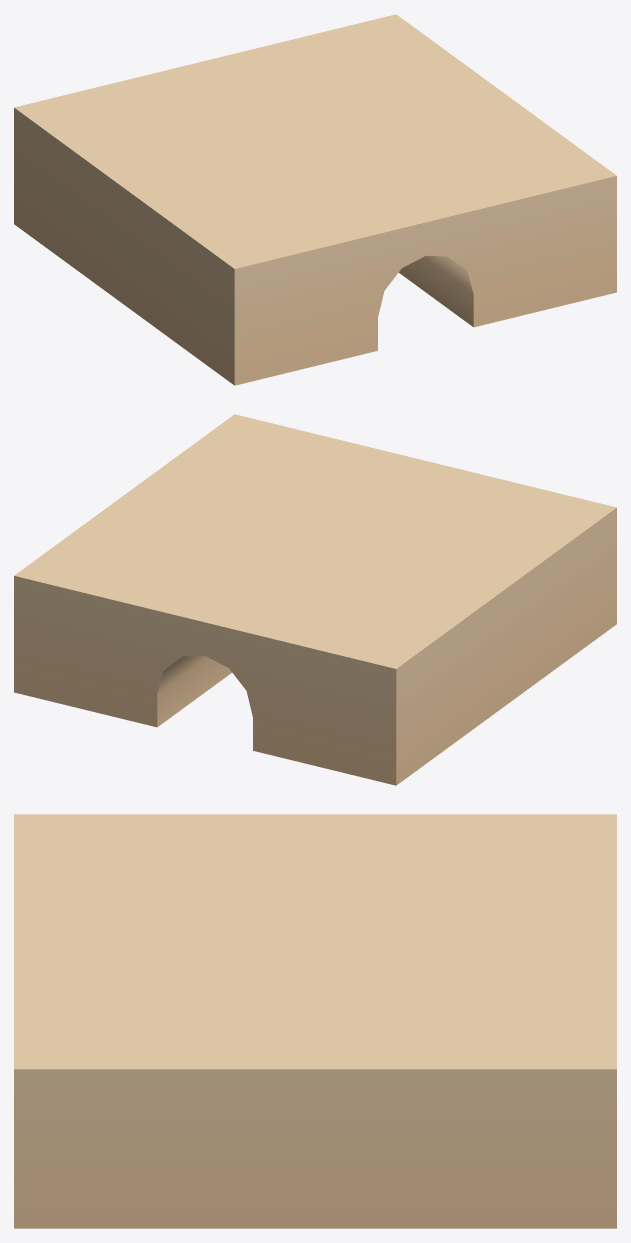
The model's file is structure-gate.glb.
3 views of the same model, one above another, from view 1: azimuth 30°, elevation 25°; view 2: azimuth 150°, elevation 25°; view 3: azimuth 270°, elevation 25° (orthographic). The views are drawn at different scales.
Visible parts, largest first — view 1: structure-gate; view 2: structure-gate; view 3: structure-gate.
Boxes of the visible parts, left/top/right/bottom form: structure-gate: left=14, top=14, right=616, bottom=385; structure-gate: left=14, top=414, right=616, bottom=785; structure-gate: left=14, top=814, right=616, bottom=1228.
Bounding box in the file's own units: 0.7999 × 0.2333 × 0.7999.
Materials: 1 (1 with a texture image).
